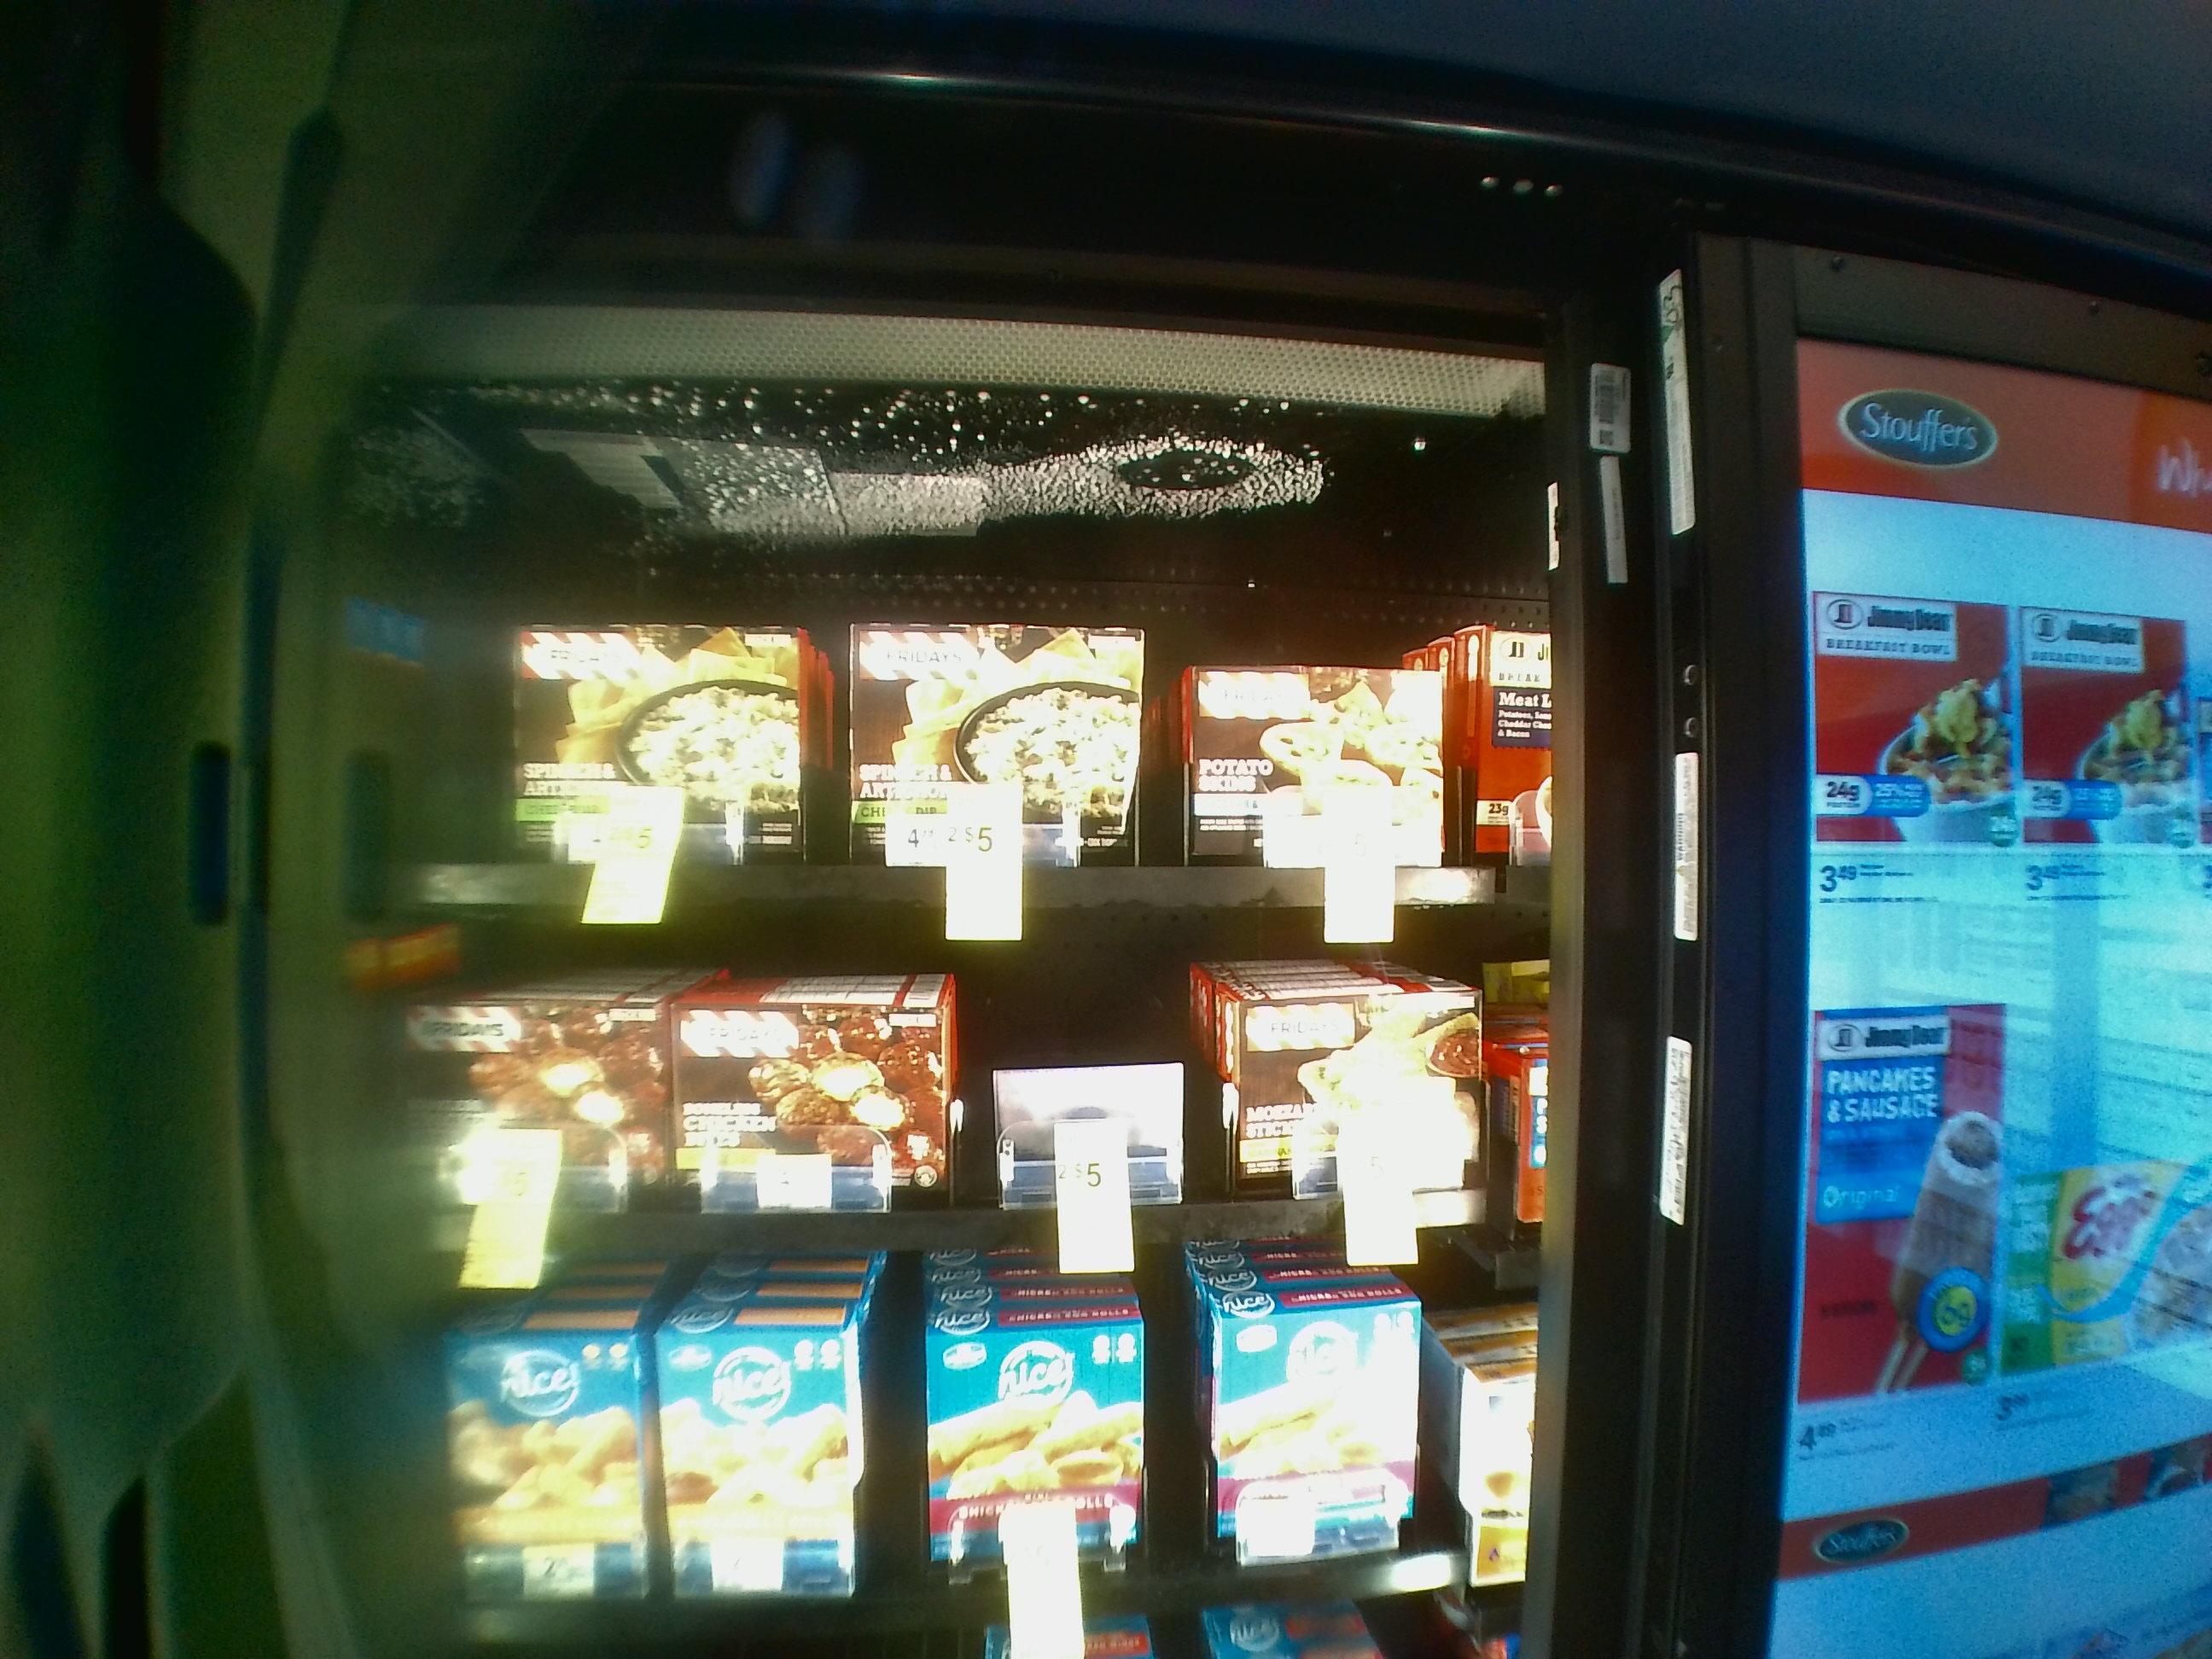shelf: (361, 422, 1545, 918), (366, 934, 1545, 1265)
